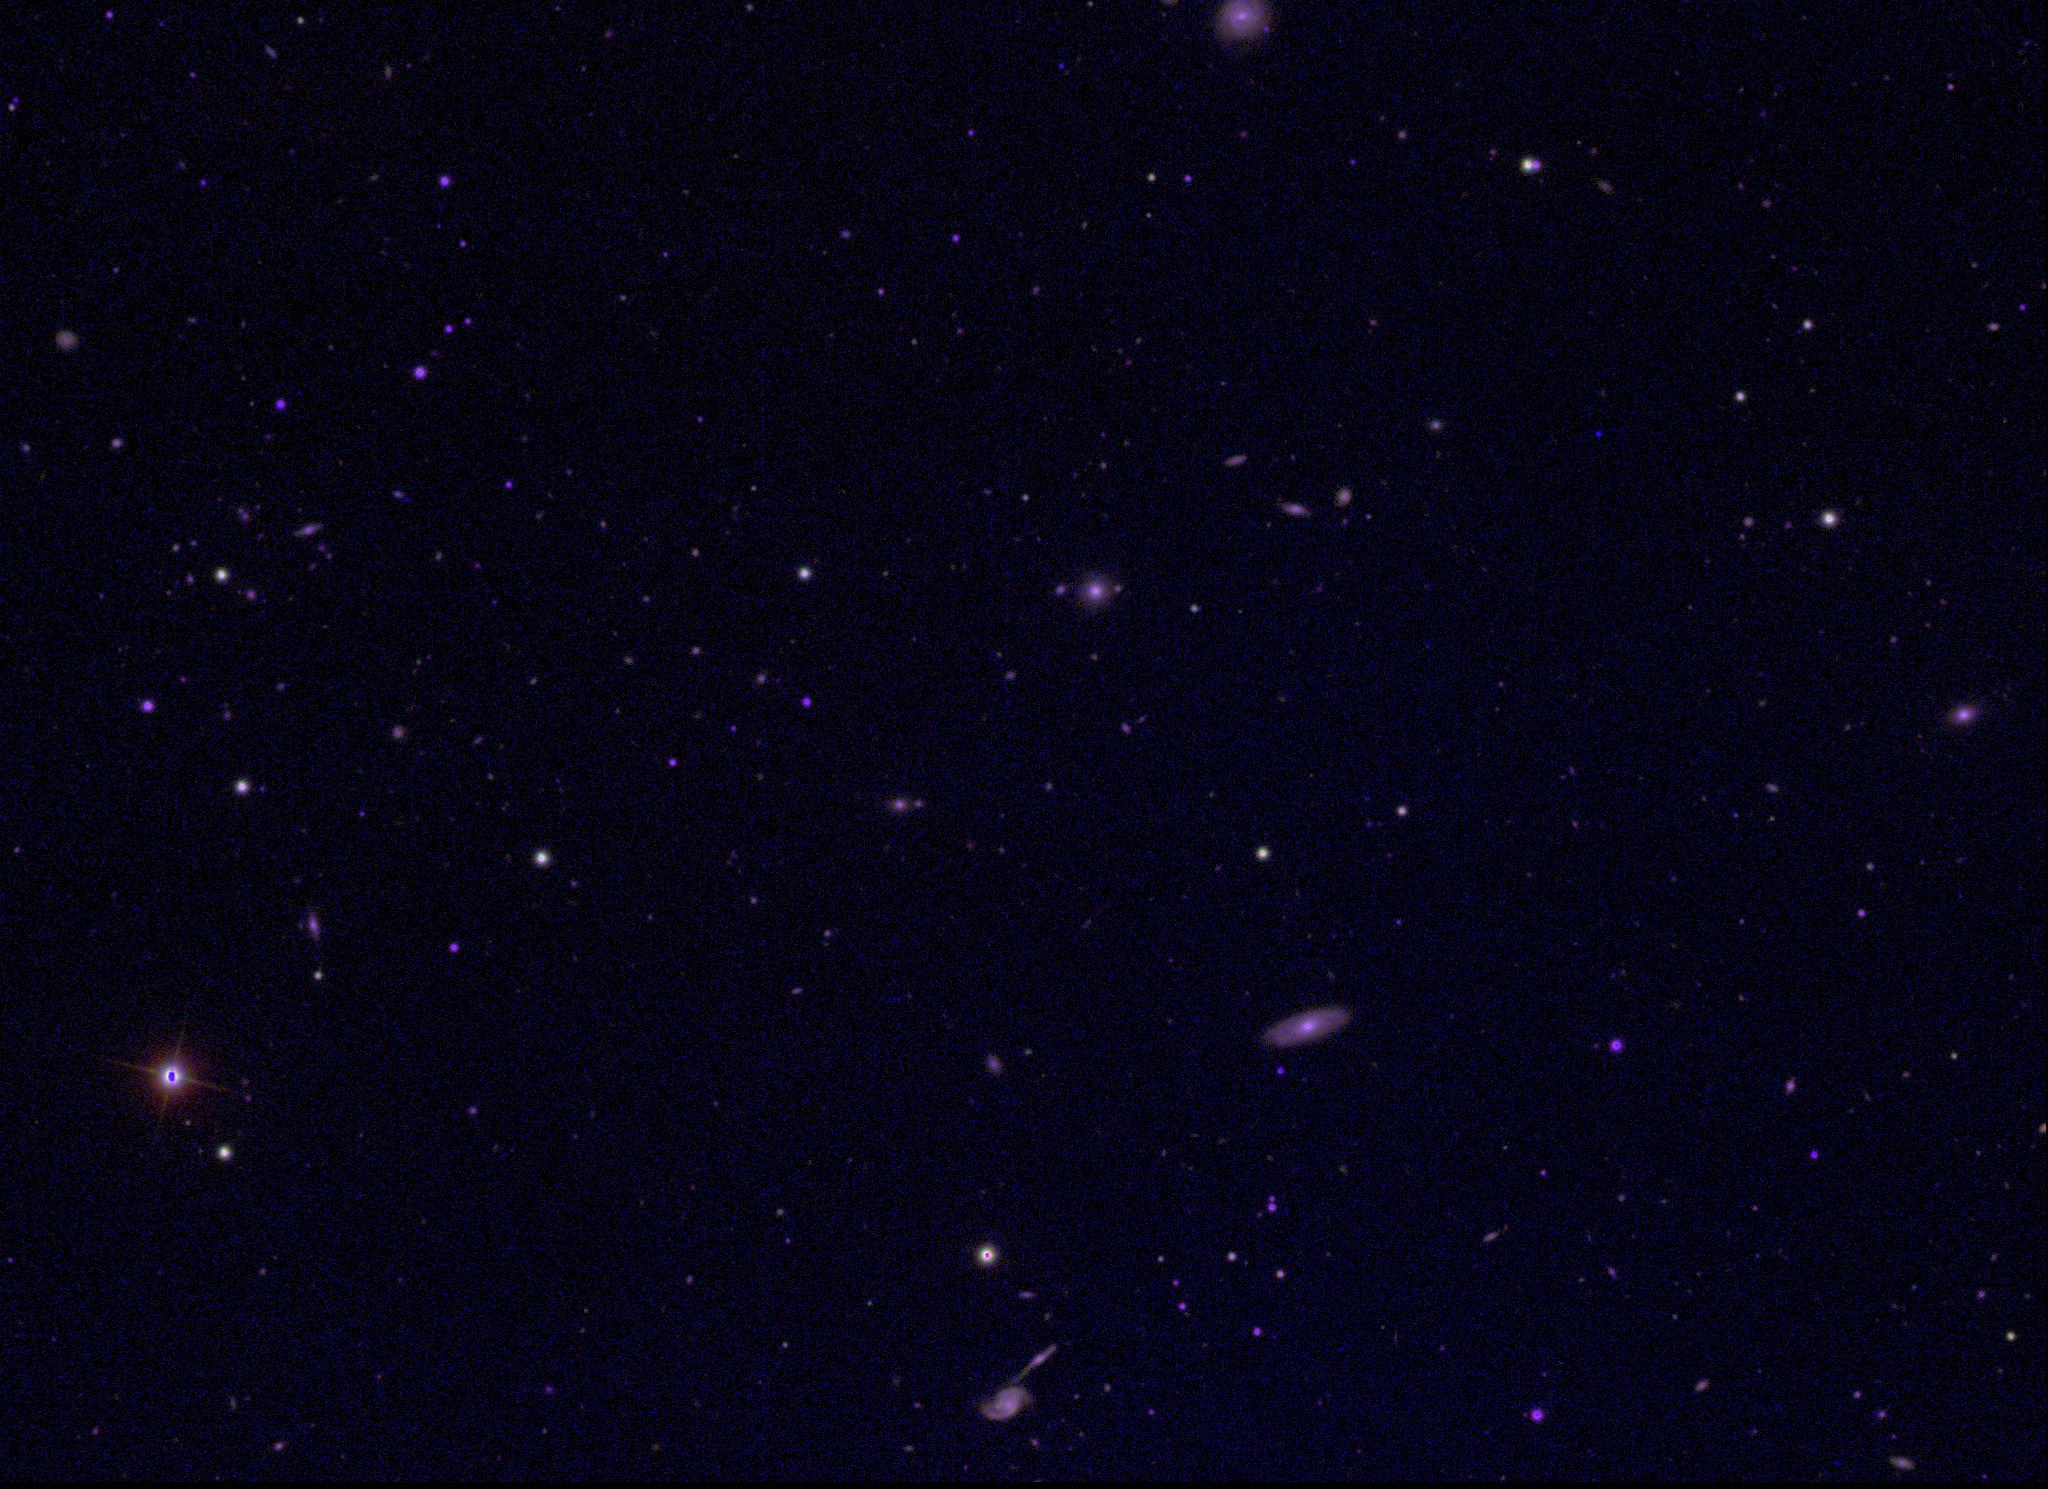L: (1593, 426, 1608, 441)
